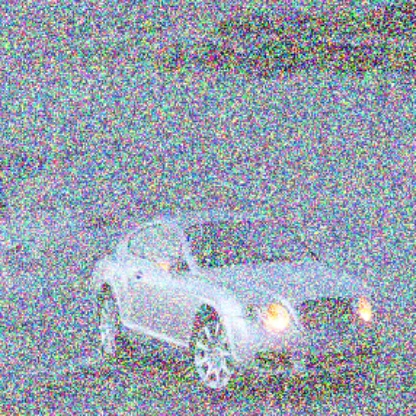Vehicle: (92, 208, 384, 399)
